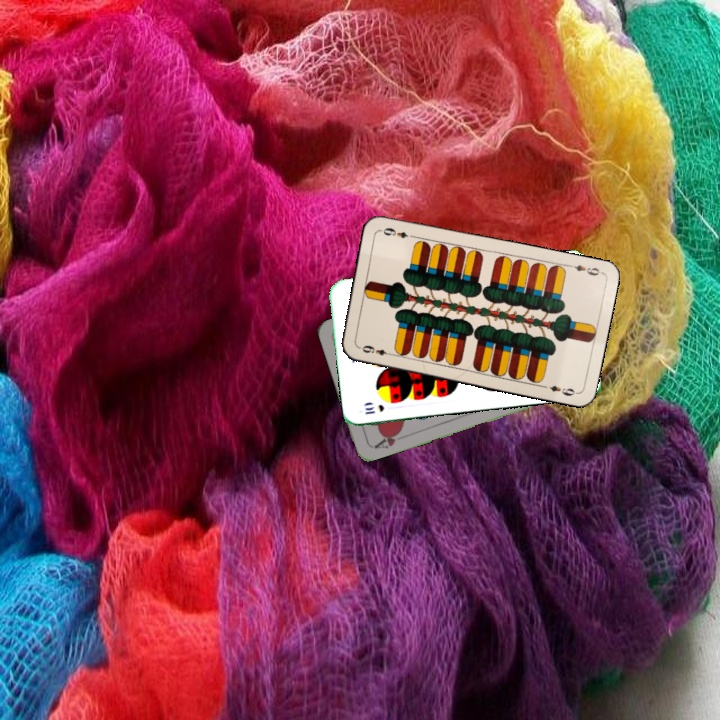E9: (564, 260, 604, 278), (354, 341, 395, 358)
HA: (370, 426, 409, 451)
S10: (361, 401, 387, 417)
